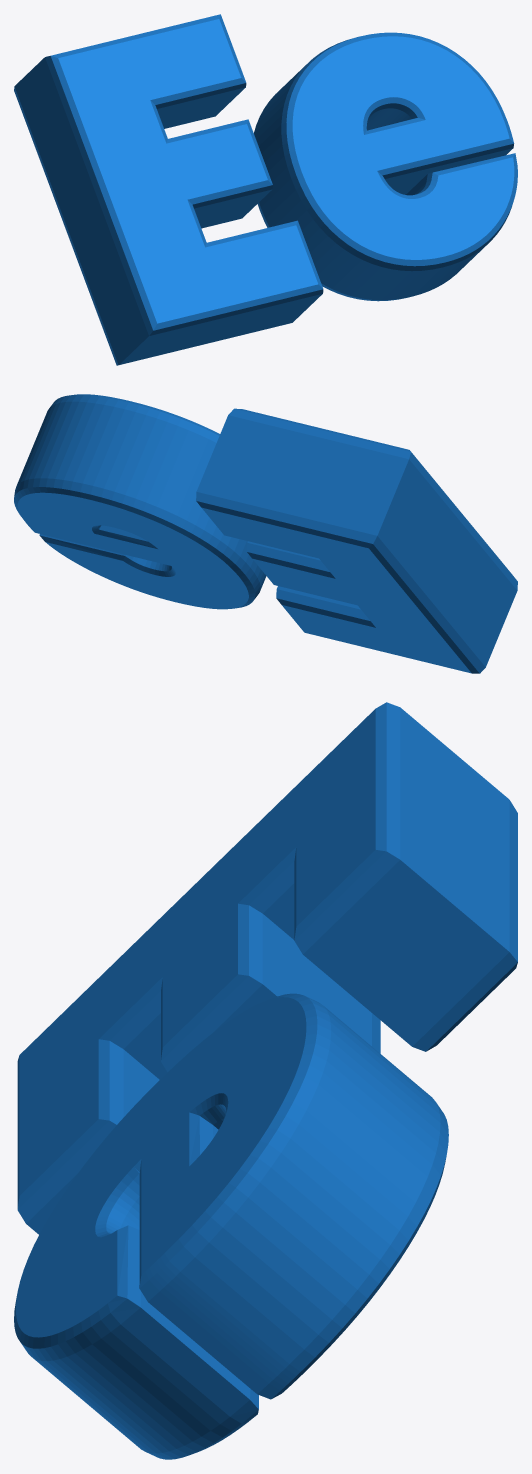
3 views of the same model, one above another, from view 1: azimuth 30°, elevation 25°; view 2: azimuth 150°, elevation 25°; view 3: azimuth 270°, elevation 25° (orthographic). The views are drawn at different scales.
Visible parts, largest first — view 1: letter; view 2: letter; view 3: letter.
Part boxes in pixels (x1=…): letter: x1=14, y1=14, x2=517, y2=365; letter: x1=14, y1=394, x2=517, y2=673; letter: x1=14, y1=702, x2=517, y2=1459.
Size of the model in its own units: 1.56 by 0.9789 by 0.9445.
